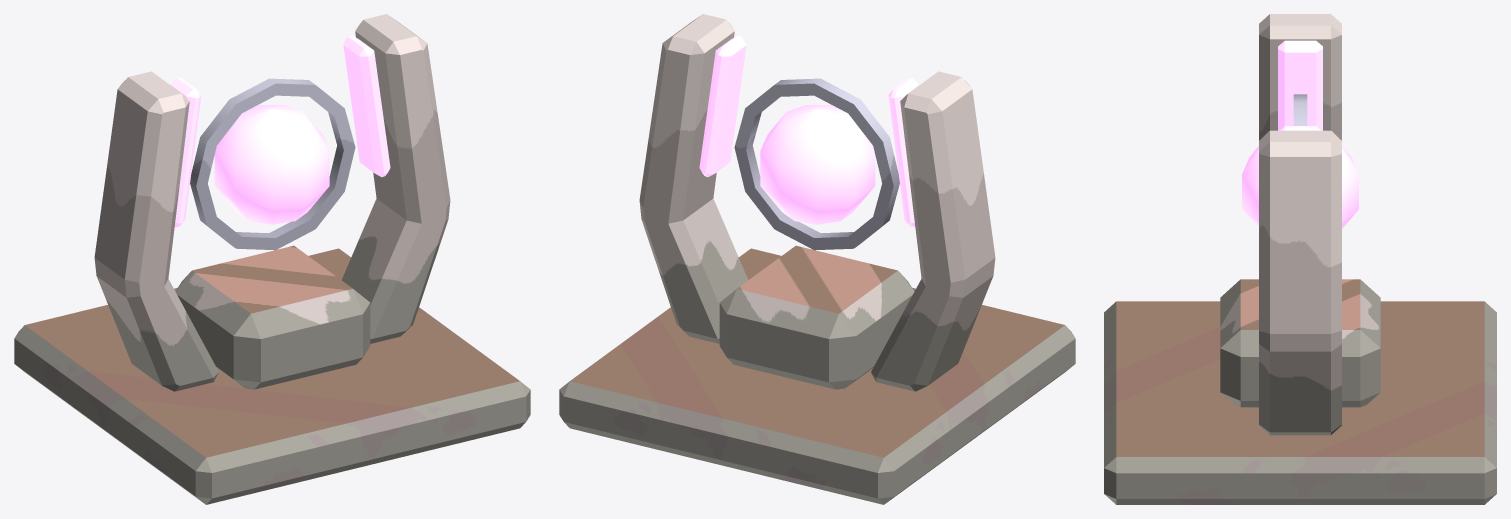
Rendered from R4X_Blink_LOD1.glb.
The picture shows the model from 3 angles, left to right: view 1: azimuth 30°, elevation 25°; view 2: azimuth 150°, elevation 25°; view 3: azimuth 270°, elevation 25°; orthographic projection.
Visible parts, largest first — view 1: R4X_Blink_LOD1; view 2: R4X_Blink_LOD1; view 3: R4X_Blink_LOD1.
Boxes of the visible parts, x1,y1,x2,y2 form: R4X_Blink_LOD1: [14, 14, 530, 504]; R4X_Blink_LOD1: [559, 14, 1075, 504]; R4X_Blink_LOD1: [1104, 14, 1496, 504].
Size of the model in its own units: 0.52 by 0.51 by 0.52.
Materials: 4 (3 with a texture image).
